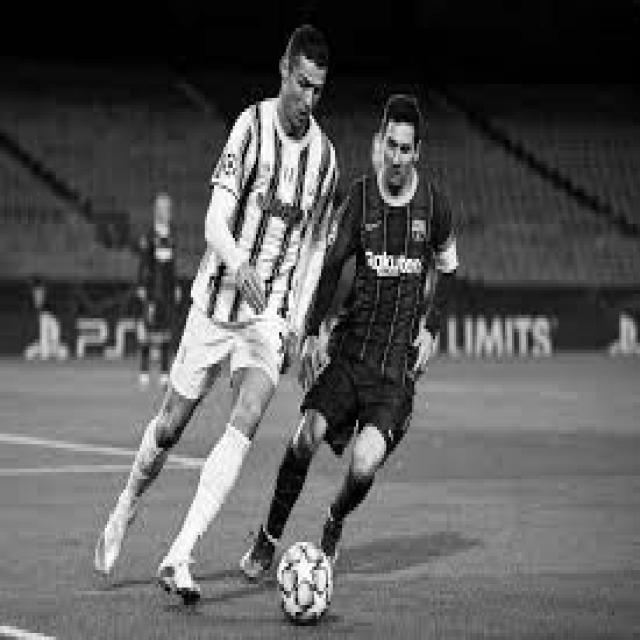football: (274, 535, 340, 636)
